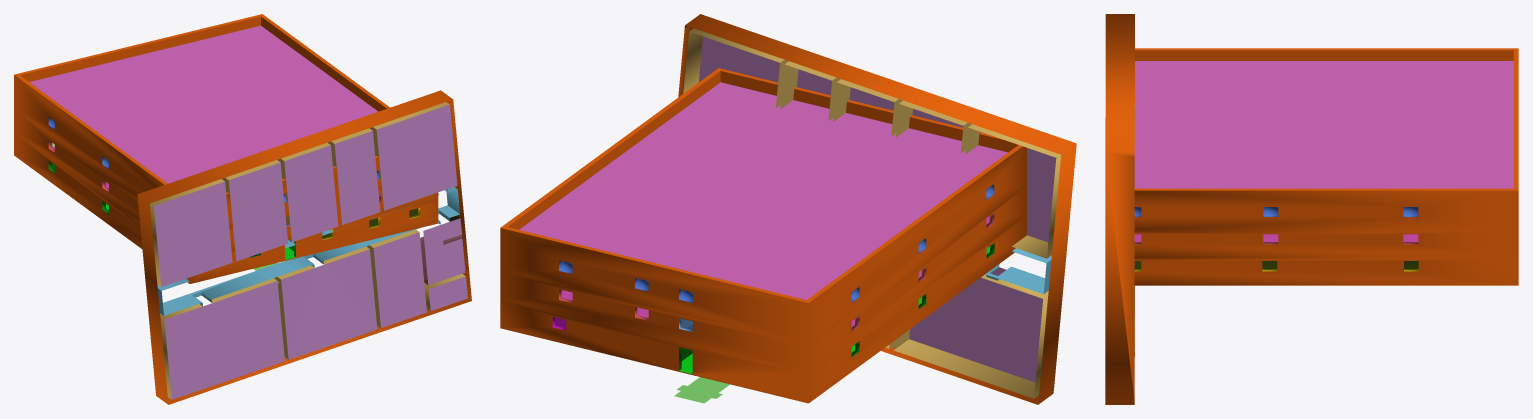
The model's file is hotel-2.fbx.
3 views of the same model, side by side, from view 1: azimuth 30°, elevation 25°; view 2: azimuth 150°, elevation 25°; view 3: azimuth 270°, elevation 25° (orthographic). The views are drawn at different scales.
Parts seen in each view (by area): view 1: pidval.004, _pov, _pov.003, pidval.001, first_pov.005, pidval.002, _pov2.004, pidval.003; view 2: _pov, _pov.003, _pov2.004, first_pov.005, pidval.004, pidval.001, pidval.002, pidval.003, pidval, _pov.002; view 3: _pov, _pov.003, pidval.001, _pov2.004, first_pov.005, _pov.002.
Part boxes in pixels (x1,y1,x2,y2): pidval.004: [154, 104, 467, 399]; _pov: [29, 25, 377, 183]; _pov.003: [14, 14, 389, 227]; pidval.001: [137, 90, 471, 404]; first_pov.005: [14, 132, 438, 283]; pidval.002: [150, 102, 465, 399]; _pov2.004: [14, 109, 438, 250]; pidval.003: [157, 187, 459, 315]; _pov: [519, 82, 1007, 299]; _pov.003: [500, 68, 1026, 345]; _pov2.004: [500, 186, 1026, 374]; first_pov.005: [500, 215, 1026, 403]; pidval.004: [699, 36, 1056, 382]; pidval.001: [678, 14, 1076, 404]; pidval.002: [683, 28, 1061, 398]; pidval.003: [985, 248, 1051, 294]; pidval: [674, 377, 729, 403]; _pov.002: [559, 184, 994, 302]; _pov: [1134, 61, 1513, 188]; _pov.003: [1134, 48, 1518, 230]; pidval.001: [1105, 14, 1134, 404]; _pov2.004: [1134, 230, 1518, 257]; first_pov.005: [1134, 258, 1518, 285]; _pov.002: [1134, 207, 1418, 216].
Size of the model in its own units: 17566 by 12314 by 16640.
